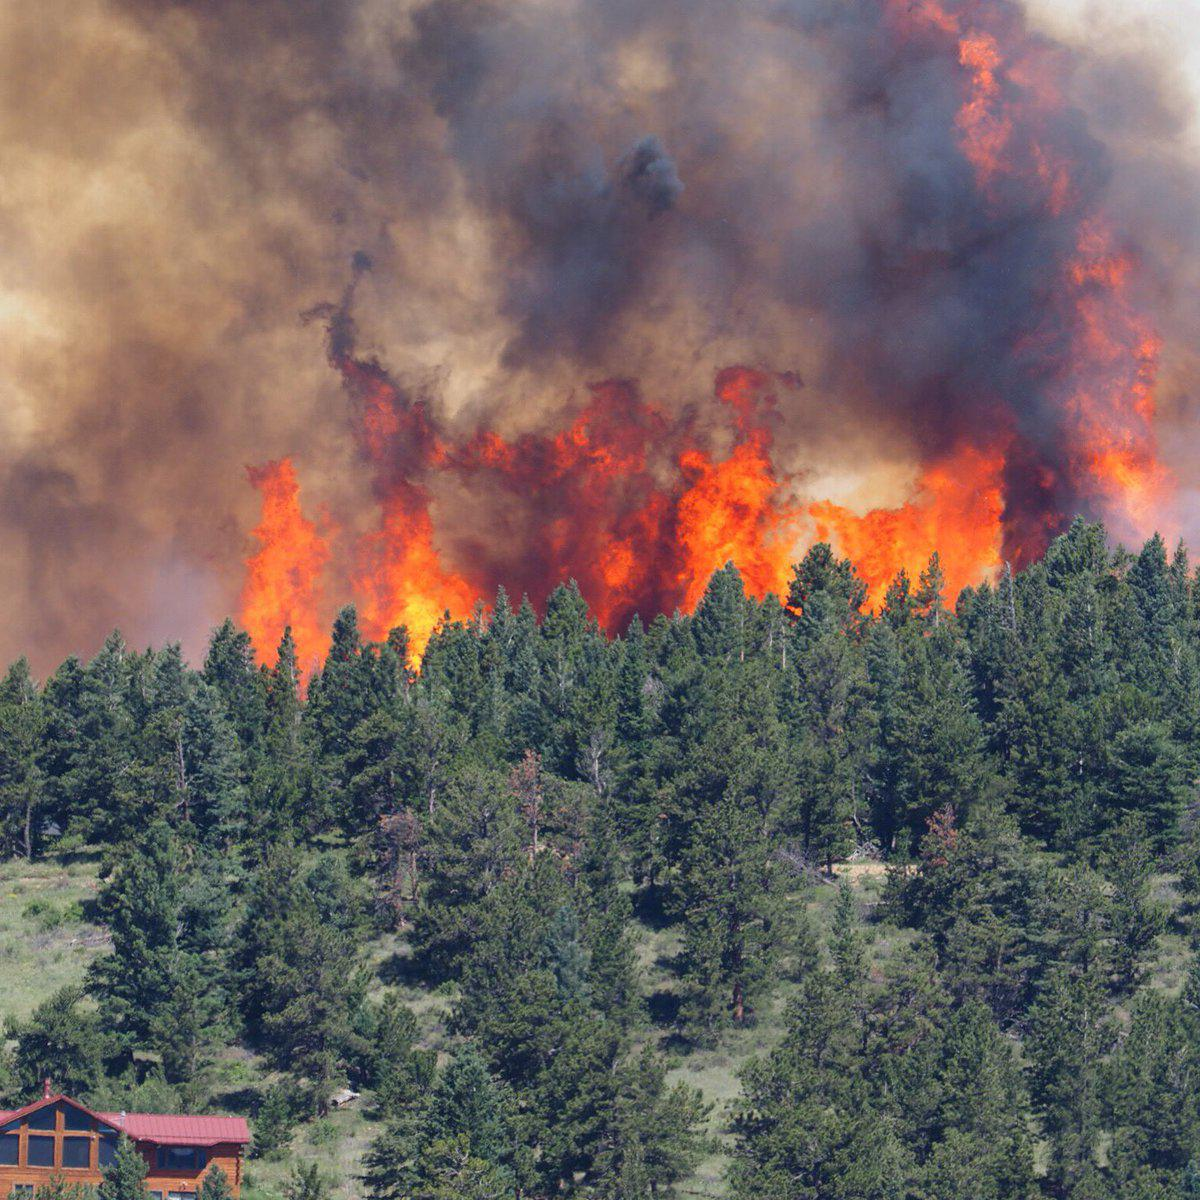fire: (210, 21, 1162, 664)
